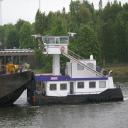tugboat: (31, 30, 125, 106)
